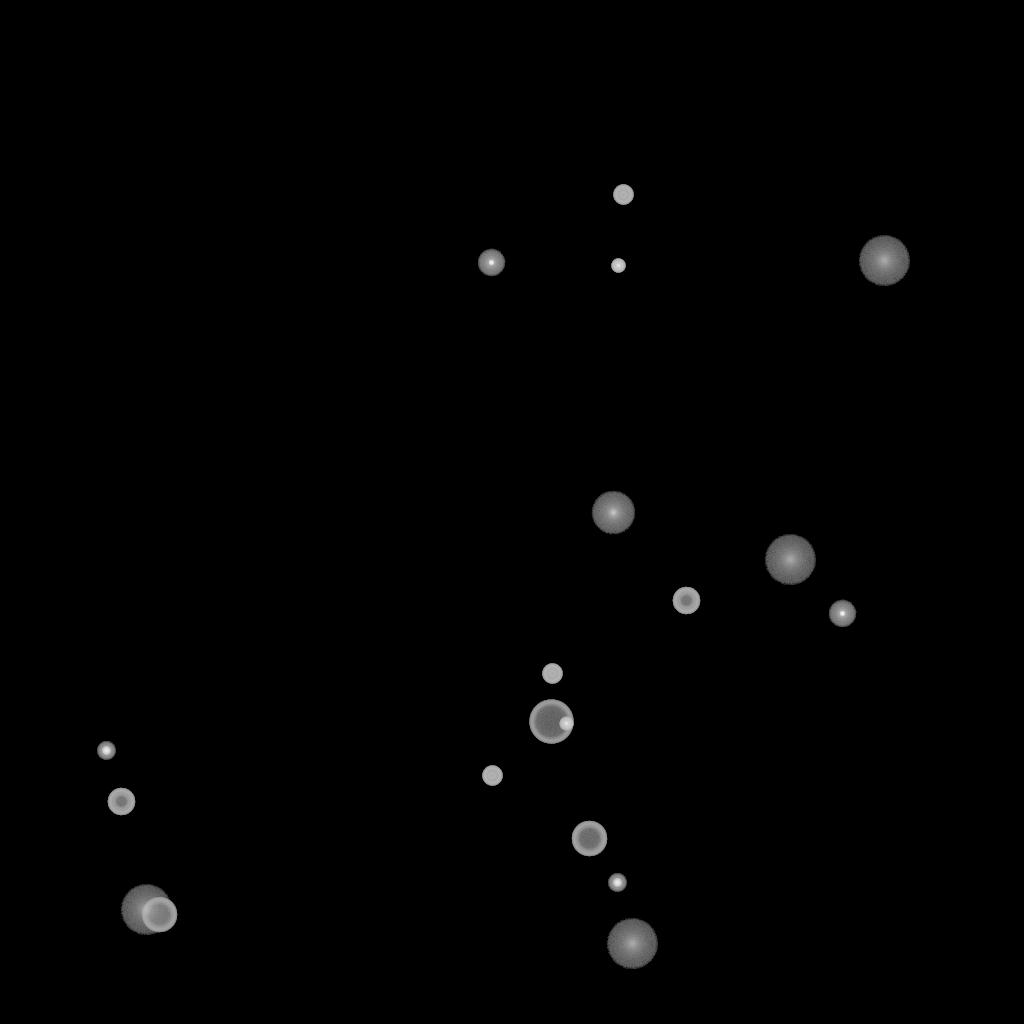depth:-10: (828, 600, 856, 628), (477, 249, 505, 277)
depth:-20: (608, 874, 626, 892), (97, 742, 115, 760)
depth:-30: (611, 259, 625, 273), (559, 717, 573, 731)
depth:-40: (613, 185, 633, 205), (542, 664, 562, 684), (482, 766, 502, 786)
depth:-50: (672, 587, 700, 615), (107, 788, 135, 816)
depth:-60: (571, 821, 607, 857), (141, 897, 177, 933)
depth:-70: (529, 700, 573, 744)
depth:10: (591, 491, 635, 535)
depth:20: (764, 535, 816, 585), (858, 236, 910, 286), (606, 919, 658, 969), (120, 885, 172, 935)
